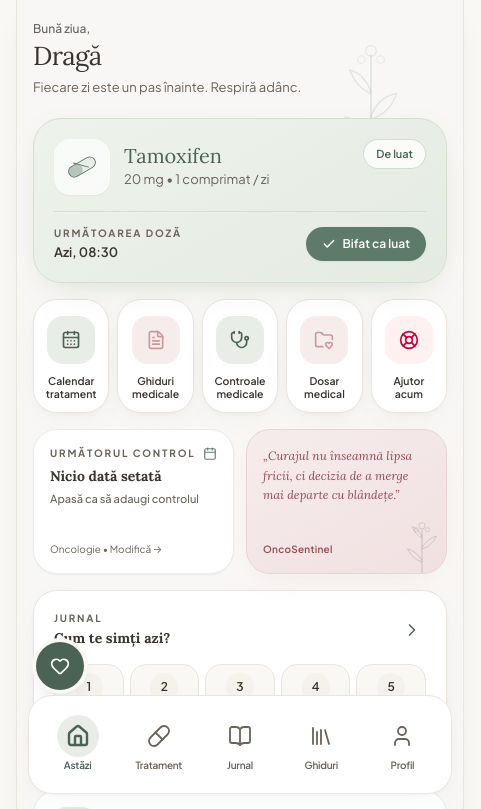
it: Pe Astăzi și în Jurnal › „Formular detaliat simptome” e un buton cu nume, care spune dacă e deschis
Click the button "Jurnal" at [240, 744], box [199,706,281,783]
(page scrolled)
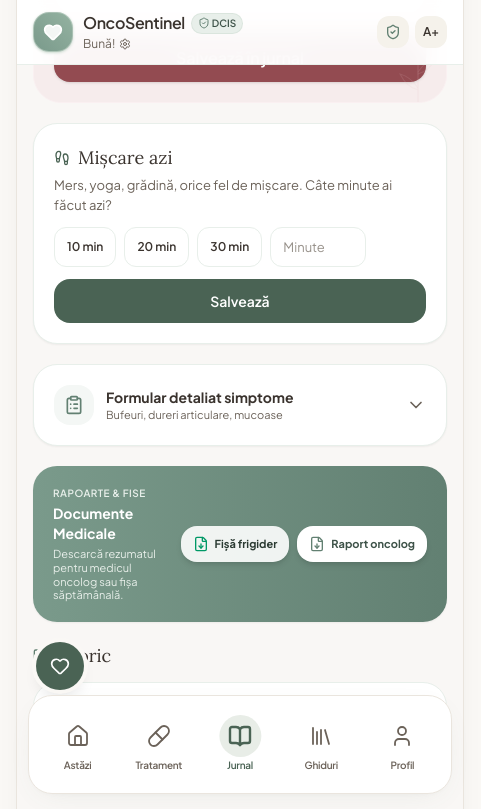
Click the button "Formular detaliat simptome" at [240, 405], box [54,385,426,425]
(page scrolled)
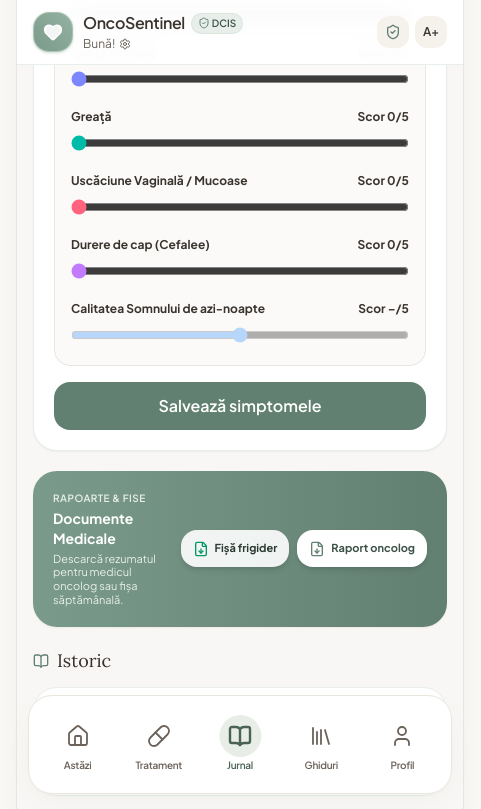
Expected: the button "Salvează simptomele" is shown, [54,382,426,430]
